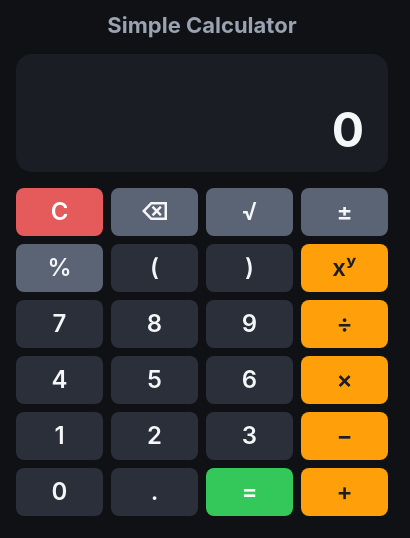
Test case: App › evaluates 2×3 to 6 on equals
Click the button "2" at (154, 436), box [111,412,198,460]
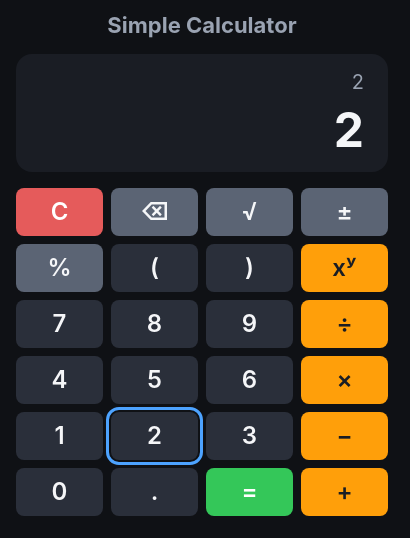
Click the button named "multiply" at (344, 380), box [301,356,388,404]
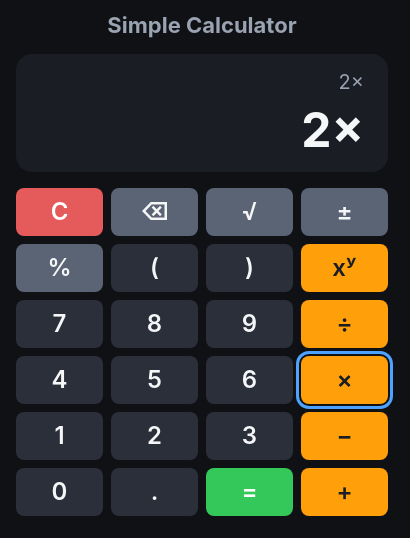
Click the button "3" at (250, 436), box [206,412,293,460]
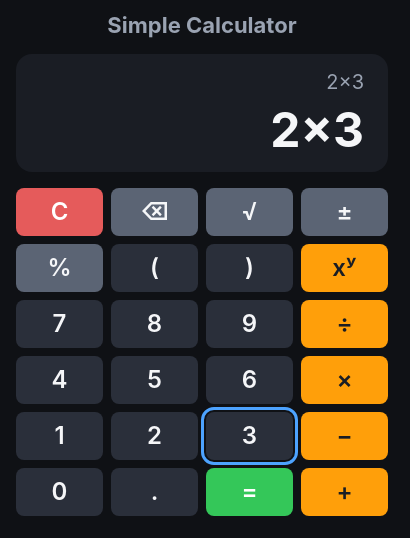
Click the button named "equals" at (250, 492), box [206,468,293,516]
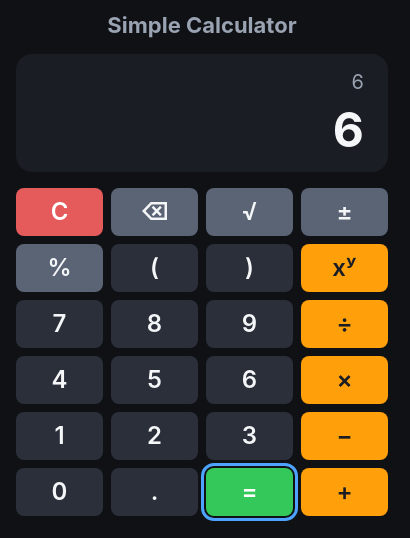
Check: the message reads "6", box [333,100,364,159]
